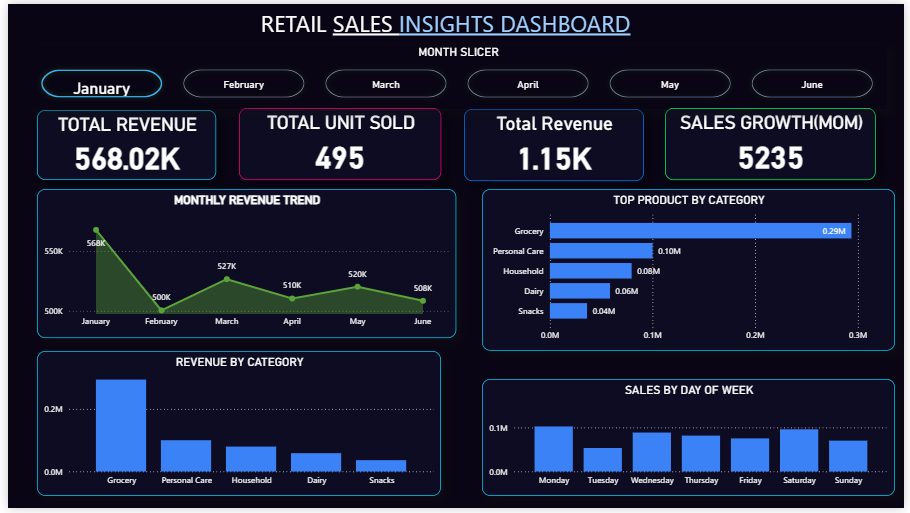

The page's visual inventory and layout, read from the dashboard file:
{"tool":"powerbi","page":{"name":"Page 1","canvas":[1280,720],"ordinal":0},"visuals":[{"type":"textbox","box":[339.2,0,609.2,57.7],"z":0},{"type":"card","title":"TOTAL REVENUE","fields":{"Values":["retail_analytics_sales.Total Revenue"]},"box":[41.4,151.4,255.7,100],"z":1000},{"type":"card","title":"TOTAL UNIT SOLD","fields":{"Values":["retail_analytics_sales.Total Transactions"]},"box":[330,148.6,288.6,102.9],"z":2000},{"type":"card","title":"AVG ORDER VALUE","fields":{"Values":["retail_analytics_sales.Avg Transaction Value"]},"box":[651.4,150,257.1,102.9],"z":3000},{"type":"card","title":"SALES GROWTH(MOM)","fields":{"Values":["retail_analytics_sales.Total Units Sold"]},"box":[938.6,148.6,301.4,102.9],"z":4000},{"type":"lineChart","title":"MONTHLY REVENUE TREND","fields":{"Category":["retail_analytics_sales.month"],"Y":["retail_analytics_sales.Total Revenue"]},"box":[41.2,263.8,598.8,212.5],"z":5000},{"type":"clusteredColumnChart","title":"REVENUE BY CATEGORY","fields":{"Category":["retail_analytics_sales.category"],"Y":["retail_analytics_sales.Total Revenue"]},"box":[41.4,495.7,577.1,207.1],"z":6000},{"type":"clusteredBarChart","title":"TOP PRODUCT BY CATEGORY","fields":{"Category":["retail_analytics_sales.category"],"Y":["retail_analytics_sales.Total Revenue"]},"box":[677.1,264.3,590,231.4],"z":7000},{"type":"clusteredColumnChart","title":"SALES BY DAY OF WEEK","fields":{"Category":["retail_analytics_sales.day_of_week"],"Y":["retail_analytics_sales.Total Revenue"]},"box":[677.1,535.7,590,167.1],"z":8000},{"type":"advancedSlicerVisual","title":"MONTH SLICER","fields":{"Values":["retail_analytics_sales.month"],"Label":["Min(retail_analytics_sales.sale_date)"]},"box":[31,58.5,1224.5,90.4],"z":9000}]}

Visuals, with their boxes in screenshot pixels (x1, y1, x2, y2), scaled from the page's 1280x720 canvas onto the 910x513 screenshot:
textbox: region(241, 0, 674, 41)
"TOTAL REVENUE" card: region(29, 108, 211, 179)
"TOTAL UNIT SOLD" card: region(235, 106, 440, 179)
"AVG ORDER VALUE" card: region(463, 107, 646, 180)
"SALES GROWTH(MOM)" card: region(667, 106, 882, 179)
"MONTHLY REVENUE TREND" lineChart: region(29, 188, 455, 339)
"REVENUE BY CATEGORY" clusteredColumnChart: region(29, 353, 440, 501)
"TOP PRODUCT BY CATEGORY" clusteredBarChart: region(481, 188, 901, 353)
"SALES BY DAY OF WEEK" clusteredColumnChart: region(481, 382, 901, 501)
"MONTH SLICER" advancedSlicerVisual: region(22, 42, 893, 106)
